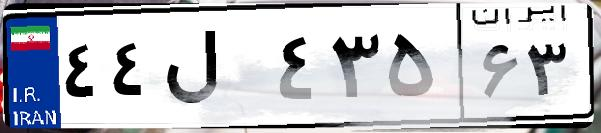3: (330, 28, 385, 110), (525, 38, 570, 115)
4: (270, 28, 330, 110), (57, 26, 110, 100), (110, 28, 158, 98)
5: (385, 28, 445, 110)
6: (475, 38, 525, 113)
ل: (158, 20, 270, 120)
